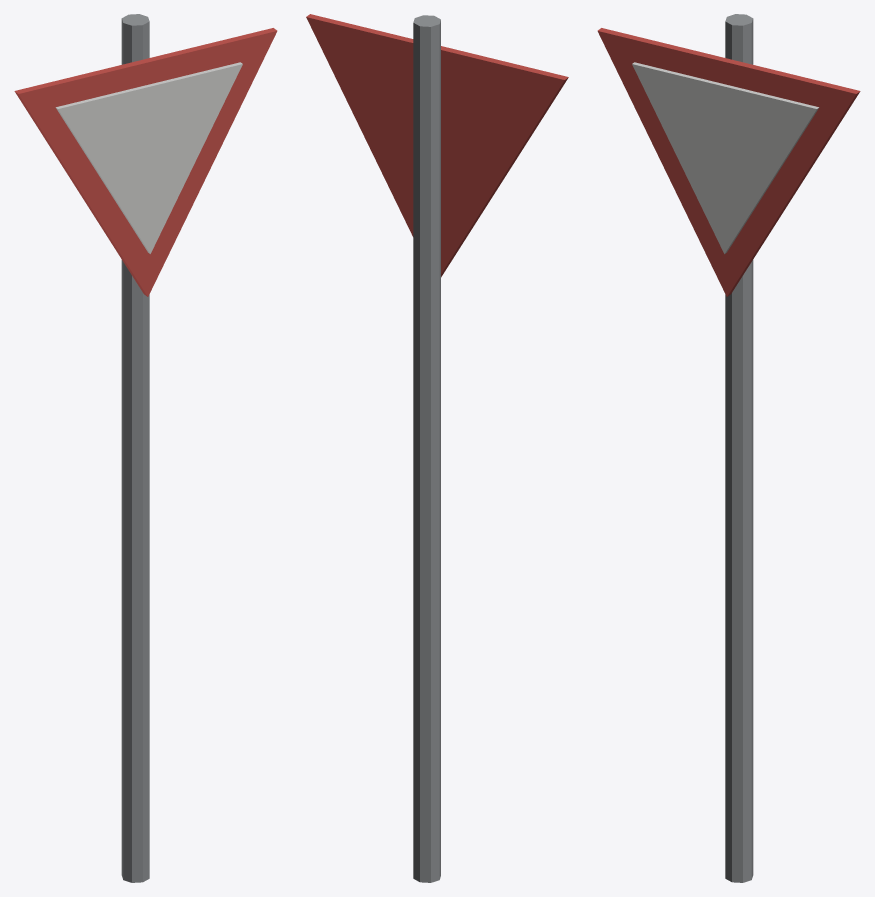
The model's file is sign-triangle.glb.
3 renders of one model, left to right at view 1: azimuth 30°, elevation 25°; view 2: azimuth 150°, elevation 25°; view 3: azimuth 330°, elevation 25°, orthographic.
Parts seen in each view (by area): view 1: sign-triangle; view 2: sign-triangle; view 3: sign-triangle.
Part boxes in pixels (x1,y1,x2,y2): sign-triangle: (14,14,277,882); sign-triangle: (306,14,568,882); sign-triangle: (597,14,860,882).
Size of the model in its own units: 0.7275 by 2.3 by 0.107.
